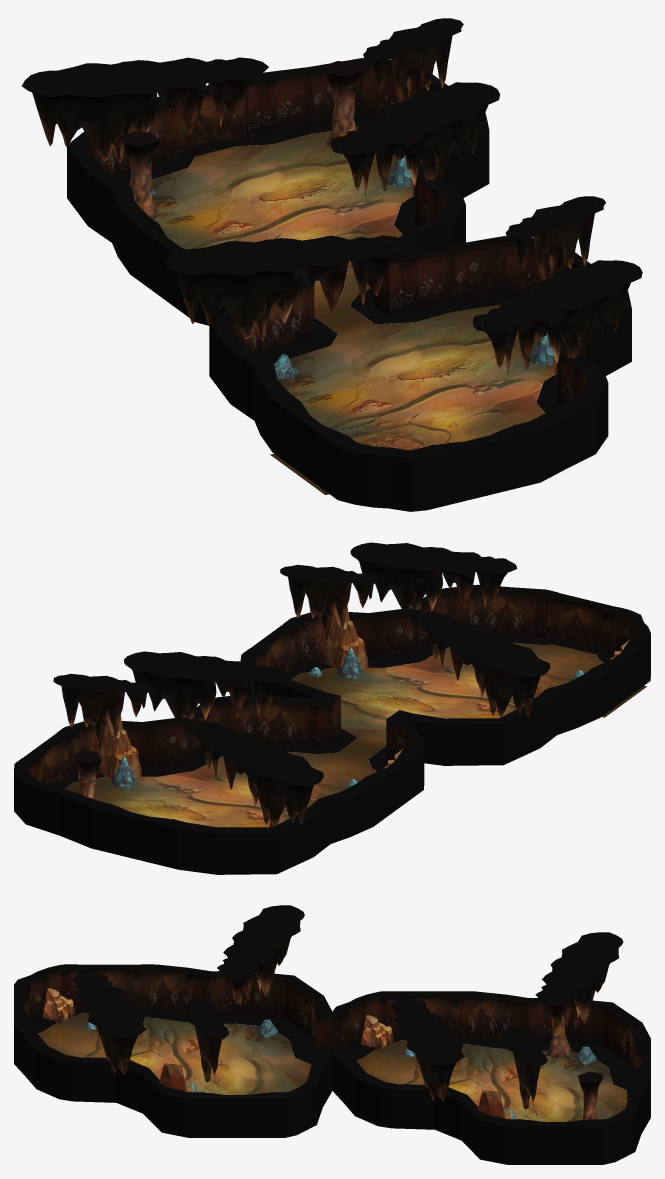
Rendered from Dungeon_011_QuestBossRoom.fbx.
The picture shows the model from 3 angles, top to bottom: view 1: azimuth 30°, elevation 25°; view 2: azimuth 150°, elevation 25°; view 3: azimuth 270°, elevation 25°; orthographic projection. The views are drawn at different scales.
Parts seen in each view (by area): view 1: Dun_011_Room_003_wall (×2), Dun_011_Room_003_ground (×2), Dungeon_011_Iwa004_3 (×2), Dungeon_011_Iwa004_2 (×2), Dun_011_Door_002 (×5), Dungeon_011_Iwa004_1 (×2), Dun_011_Room_003_shadow (×2), Dungeon_011_Object_010 (×2), Dun_011_Door_002_old; view 2: Dun_011_Room_003_wall (×2), Dun_011_Room_003_ground (×2), Dungeon_011_Iwa004_2 (×2), Dungeon_011_Iwa004_3 (×2), Dun_011_Door_002 (×7), Dungeon_011_Iwa004_1 (×2), Dun_011_Door_002_old (×2), Dungeon_011_Iwa001 (×2), Dun_011_Room_003_shadow (×2), Dungeon_011_Object_010; view 3: Dun_011_Room_003_wall (×2), Dun_011_Room_003_ground (×2), Dun_011_Door_002 (×6), Dungeon_011_Iwa004_3 (×2), Dungeon_011_Iwa004_2 (×2), Dun_011_Door_002_old (×2), Dun_011_Room_003_shadow (×2), Dungeon_011_Iwa004_1 (×2), Dungeon_011_Iwa002 (×2), Dungeon_011_Object_010 (×2), Dungeon_011_Iwa001 (×2).
Part boxes in pixels (bbox=[...]): Dun_011_Room_003_wall (×2): bbox=[67, 58, 631, 511]; Dun_011_Room_003_ground (×2): bbox=[150, 127, 554, 494]; Dungeon_011_Iwa004_3 (×2): bbox=[22, 57, 411, 341]; Dungeon_011_Iwa004_2 (×2): bbox=[330, 82, 642, 374]; Dun_011_Door_002 (×5): bbox=[157, 76, 537, 505]; Dungeon_011_Iwa004_1 (×2): bbox=[363, 18, 605, 281]; Dun_011_Room_003_shadow (×2): bbox=[116, 118, 558, 412]; Dungeon_011_Object_010 (×2): bbox=[120, 61, 363, 218]; Dun_011_Door_002_old: bbox=[132, 217, 185, 313]; Dun_011_Room_003_wall (×2): bbox=[14, 584, 650, 874]; Dun_011_Room_003_ground (×2): bbox=[64, 642, 646, 827]; Dungeon_011_Iwa004_2 (×2): bbox=[124, 542, 516, 719]; Dungeon_011_Iwa004_3 (×2): bbox=[184, 612, 550, 825]; Dun_011_Door_002 (×7): bbox=[16, 589, 648, 865]; Dungeon_011_Iwa004_1 (×2): bbox=[53, 564, 378, 749]; Dun_011_Door_002_old (×2): bbox=[242, 618, 421, 819]; Dungeon_011_Iwa001 (×2): bbox=[93, 606, 368, 780]; Dun_011_Room_003_shadow (×2): bbox=[71, 633, 614, 782]; Dungeon_011_Object_010: bbox=[74, 749, 101, 799]; Dun_011_Room_003_wall (×2): bbox=[14, 964, 650, 1164]; Dun_011_Room_003_ground (×2): bbox=[38, 1013, 627, 1121]; Dun_011_Door_002 (×6): bbox=[14, 964, 650, 1164]; Dungeon_011_Iwa004_3 (×2): bbox=[217, 905, 623, 1033]; Dungeon_011_Iwa004_2 (×2): bbox=[72, 971, 465, 1101]; Dun_011_Door_002_old (×2): bbox=[191, 991, 473, 1137]; Dun_011_Room_003_shadow (×2): bbox=[30, 1009, 634, 1111]; Dungeon_011_Iwa004_1 (×2): bbox=[185, 999, 547, 1109]; Dungeon_011_Iwa002 (×2): bbox=[42, 988, 394, 1049]; Dungeon_011_Object_010 (×2): bbox=[547, 1015, 602, 1119]; Dungeon_011_Iwa001 (×2): bbox=[159, 1063, 510, 1119].
Size of what is drawn, in the model's own units: 19.01 by 5.02 by 30.
